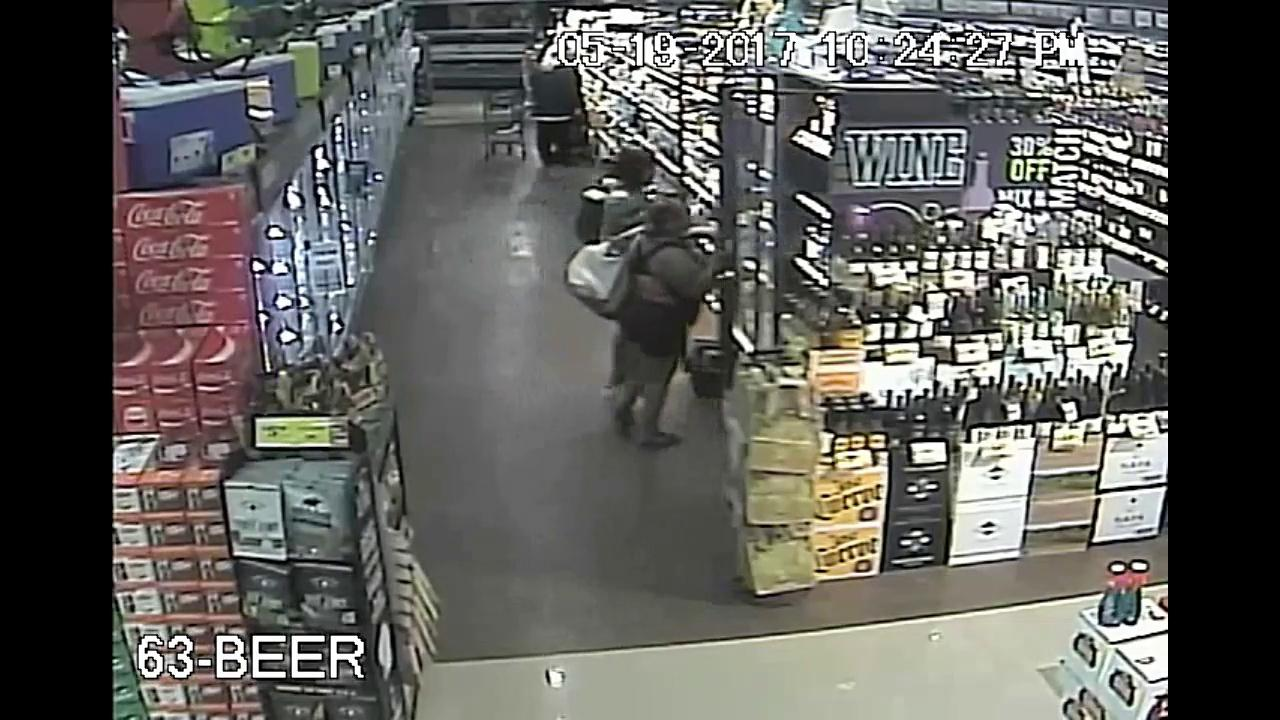Customer-Bagpack: (563, 235, 626, 324)
Product-Picked: (529, 149, 803, 457), (587, 141, 670, 205)
Regular: (520, 40, 584, 146)
